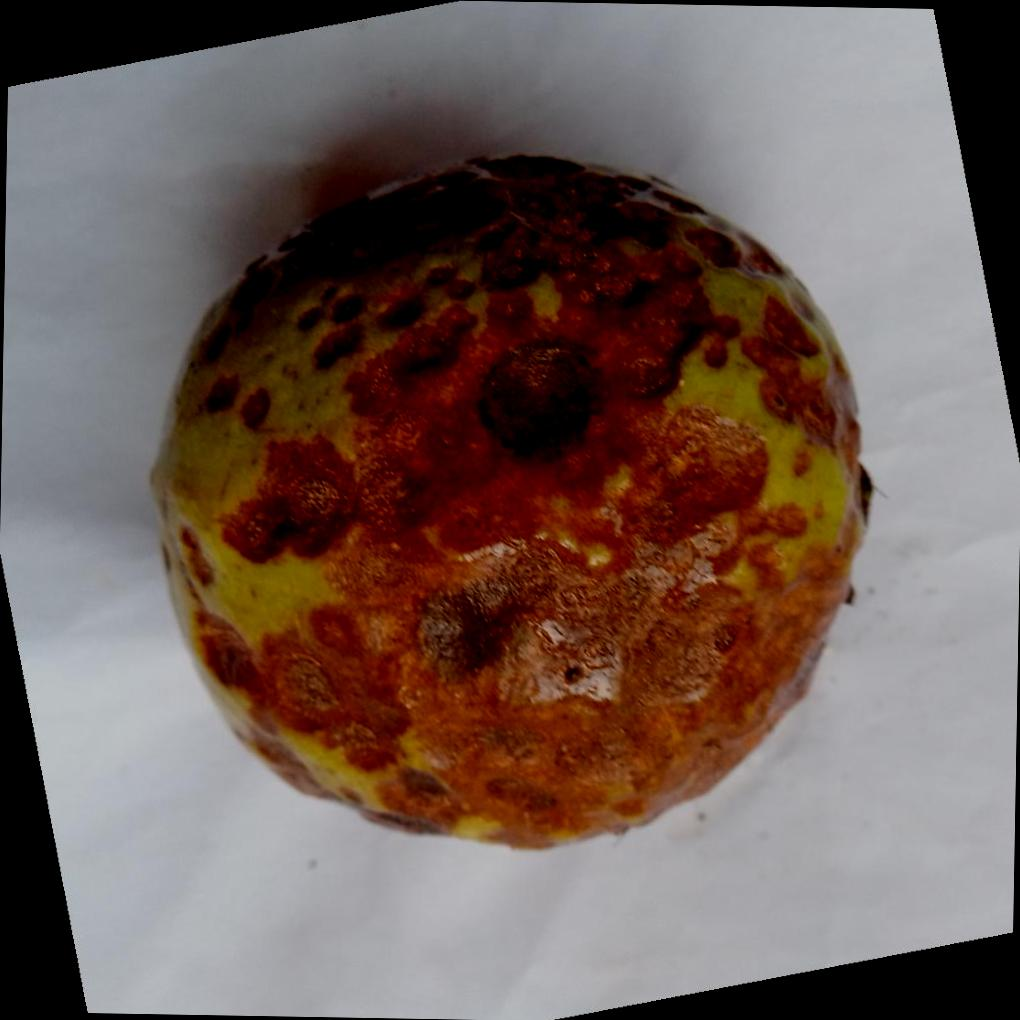FreshOrange: (149, 153, 875, 850)
